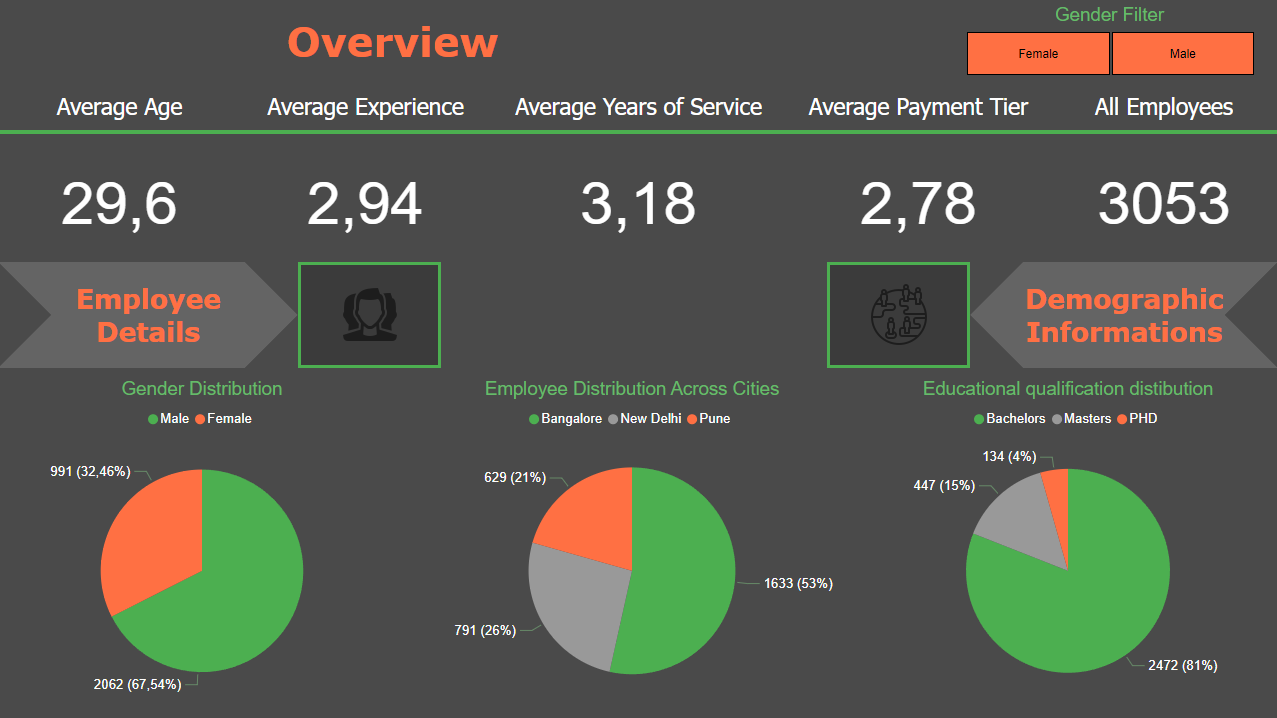

Layout of this report page (visuals, bound fields, positions):
{"tool":"powerbi","page":{"name":"Overview","canvas":[1280,720],"ordinal":0},"visuals":[{"type":"pieChart","title":"Educational qualification distibution","fields":{"Category":["Employee.Education"],"Y":["CountNonNull(Employee.Education)"]},"box":[859.6,368.9,420.4,351.1],"z":0},{"type":"card","title":"All Employees","fields":{"Values":["CountNonNull(Employee.ID)"]},"box":[1052.4,82.7,227.6,180.4],"z":1000},{"type":"pieChart","title":"Employee Distribution Across Cities","fields":{"Category":["Employee.City"],"Y":["CountNonNull(Employee.City)"]},"box":[408,368.9,451.6,351.1],"z":2000},{"type":"card","title":"Average Age","fields":{"Values":["Avg(Employee.Age)"]},"box":[0,82.7,242.7,180.4],"z":3000},{"type":"card","title":"Average Years of Service","fields":{"Values":["Employee.AverageYearsOfService"]},"box":[492.4,82.7,296.9,180.4],"z":4000},{"type":"card","title":"Average Payment Tier","fields":{"Values":["Employee.AveragePaymentTier"]},"box":[789.3,82.7,263.1,180.4],"z":5000},{"type":"card","title":"Average Experience ","fields":{"Values":["Avg(Employee.ExperienceInCurrentDomain)"]},"box":[242.7,82.7,249.8,180.4],"z":6000},{"type":"actionButton","box":[300.4,263.1,142.2,105.8],"z":7000},{"type":"actionButton","box":[829.3,263.1,142.2,105.8],"z":9000},{"type":"slicer","title":"Gender Filter","fields":{"Values":["Employee.Gender"]},"box":[943.1,0,336.9,82.7],"z":10000},{"type":"pieChart","title":"Gender Distribution","fields":{"Category":["Employee.Gender"],"Y":["CountNonNull(Employee.Gender)"]},"box":[0,368.9,408,351.1],"z":11000},{"type":"shape","title":"jghj","box":[0,0,789.3,82.7],"z":12000},{"type":"shape","title":"jghj","box":[0,263.1,300.4,105.8],"z":13000},{"type":"shape","title":"jghj","box":[971.6,263.1,308.4,105.8],"z":14000}]}

Visuals, with their boxes in screenshot pixels (x1, y1, x2, y2), scaled from the page's 1280x720 canvas onto the 1277x718 screenshot:
"Educational qualification distibution" pieChart: bbox=[858, 368, 1276, 717]
"All Employees" card: bbox=[1050, 82, 1276, 262]
"Employee Distribution Across Cities" pieChart: bbox=[407, 368, 858, 717]
"Average Age" card: bbox=[0, 82, 242, 262]
"Average Years of Service" card: bbox=[491, 82, 787, 262]
"Average Payment Tier" card: bbox=[787, 82, 1050, 262]
"Average Experience " card: bbox=[242, 82, 491, 262]
actionButton: bbox=[300, 262, 442, 368]
actionButton: bbox=[827, 262, 969, 368]
"Gender Filter" slicer: bbox=[941, 0, 1276, 82]
"Gender Distribution" pieChart: bbox=[0, 368, 407, 717]
"jghj" shape: bbox=[0, 0, 787, 82]
"jghj" shape: bbox=[0, 262, 300, 368]
"jghj" shape: bbox=[969, 262, 1276, 368]
